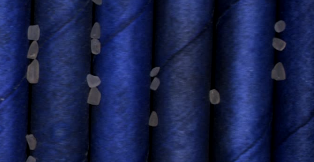broken_grain: (23, 59, 41, 86), (85, 86, 103, 108), (269, 61, 287, 83), (25, 24, 42, 43), (24, 131, 39, 152), (270, 36, 288, 53), (26, 39, 40, 60), (85, 73, 103, 89), (89, 19, 102, 39), (89, 38, 103, 56), (208, 87, 221, 106), (147, 77, 162, 93), (271, 19, 287, 33), (148, 110, 159, 128), (148, 65, 161, 78)
